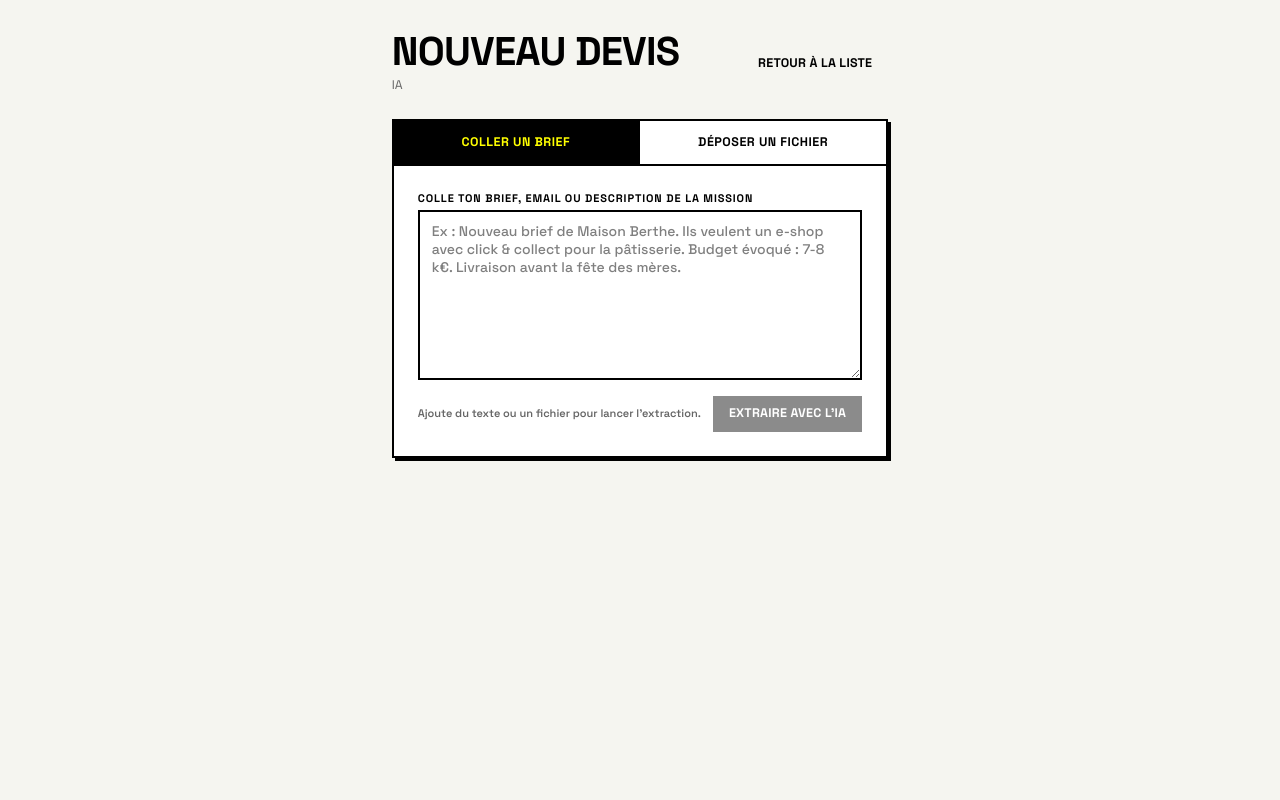
Test: NewAi route › affiche un total non-nul et active UTILISER quand items présents
Replace the text in the text box with test id "ai-brief" with "Brief pour Maison Berthe": (640, 295) [418,210,862,380]
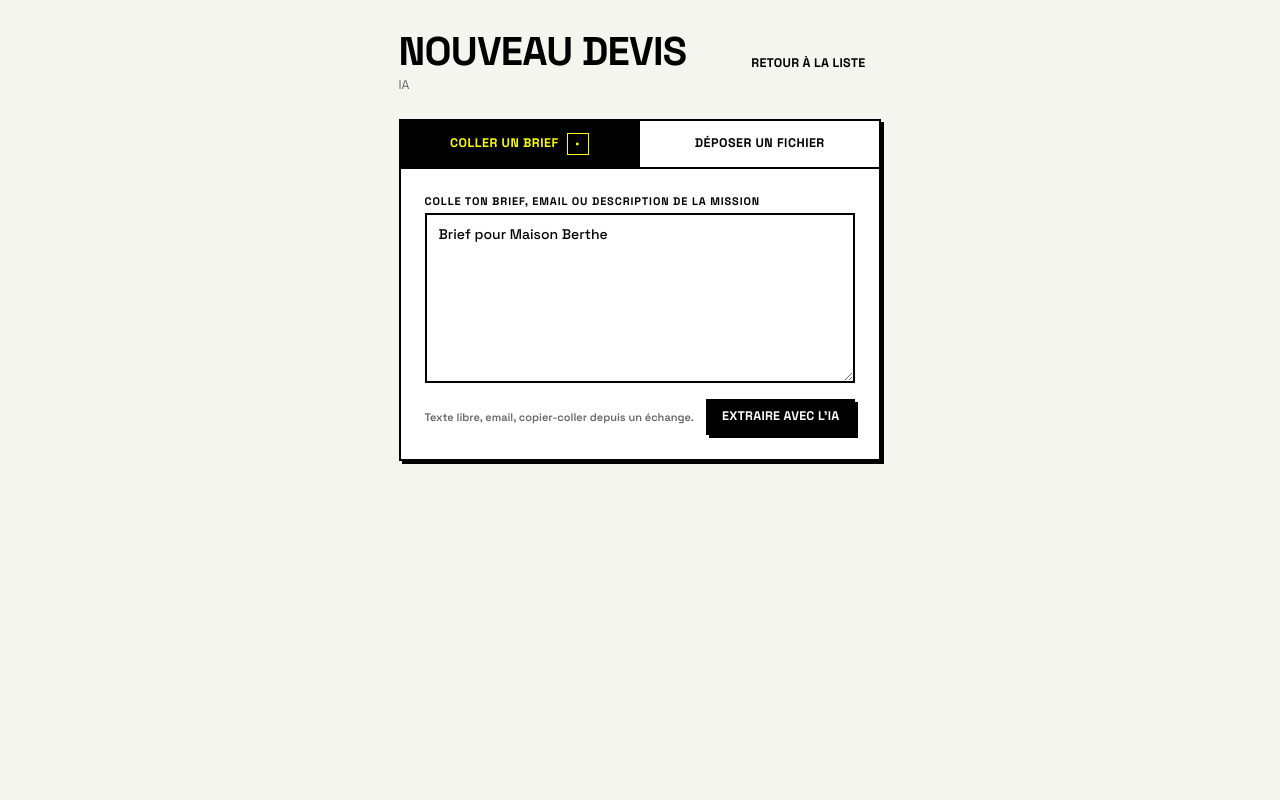
Click the button with test id "ai-extract": (781, 417) [706,399,855,435]
(page scrolled)
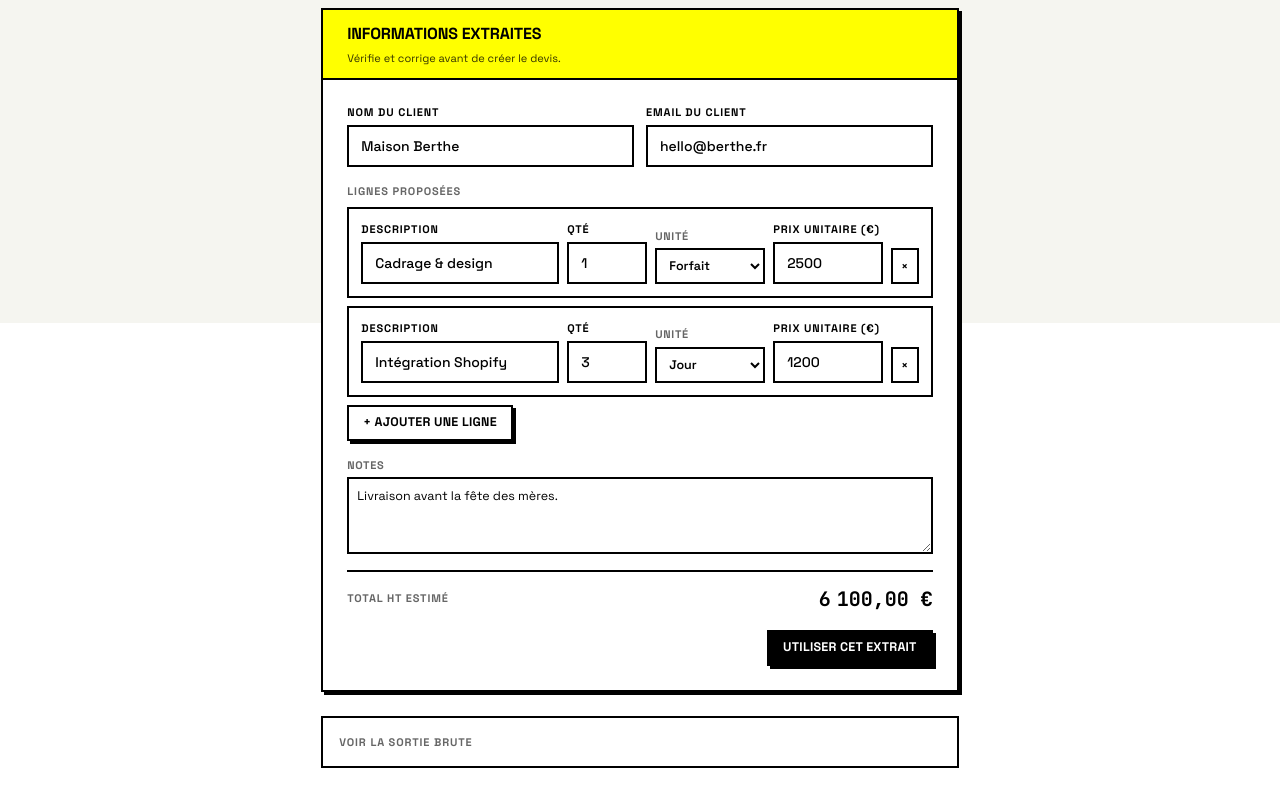
Now the element with test id "ai-extracted" is shown, box [321,8,959,692]
Now the text with test id "ai-extracted-total" reads "6 100,00 €", box [819,586,933,612]
Now the button with test id "ai-apply" is enabled, box [767,630,933,666]
